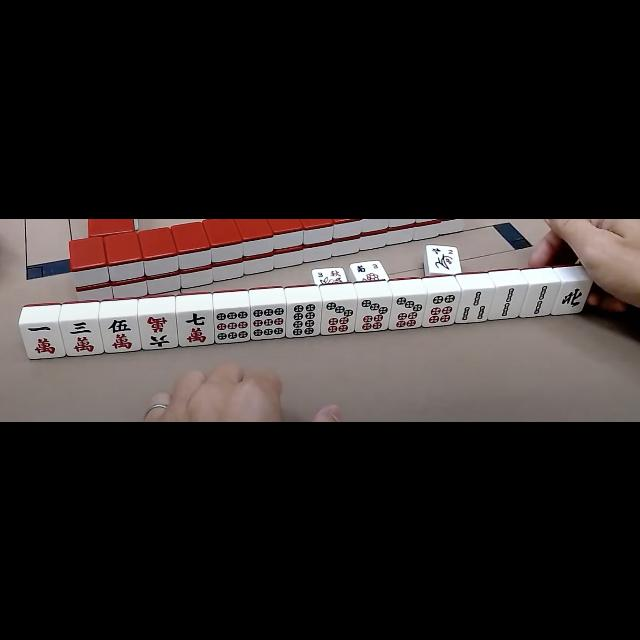b2: (524, 283, 554, 315), (493, 285, 523, 317)
b3: (458, 288, 492, 320)
c1: (21, 322, 60, 358)
c3: (61, 318, 100, 354)
c5: (102, 316, 138, 350)
c6: (139, 313, 177, 347)
c7: (178, 311, 215, 347)
d6: (427, 292, 458, 324)
d7: (321, 298, 355, 334), (392, 294, 424, 330), (358, 297, 390, 331)
d8: (288, 301, 320, 335)
d9: (215, 307, 249, 341), (251, 304, 285, 338)
f2: (428, 244, 459, 256)
f3: (353, 260, 385, 272)
s3: (314, 266, 344, 278)
wn: (557, 280, 589, 314)
